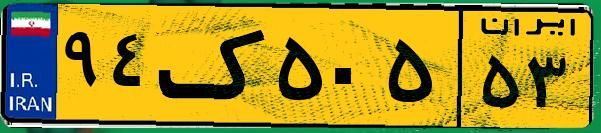0: (330, 28, 385, 110)
3: (525, 38, 570, 115)
4: (110, 28, 158, 98)
5: (270, 28, 330, 110), (385, 28, 445, 110), (475, 38, 525, 113)
9: (57, 26, 110, 100)
ک: (158, 12, 270, 120)
